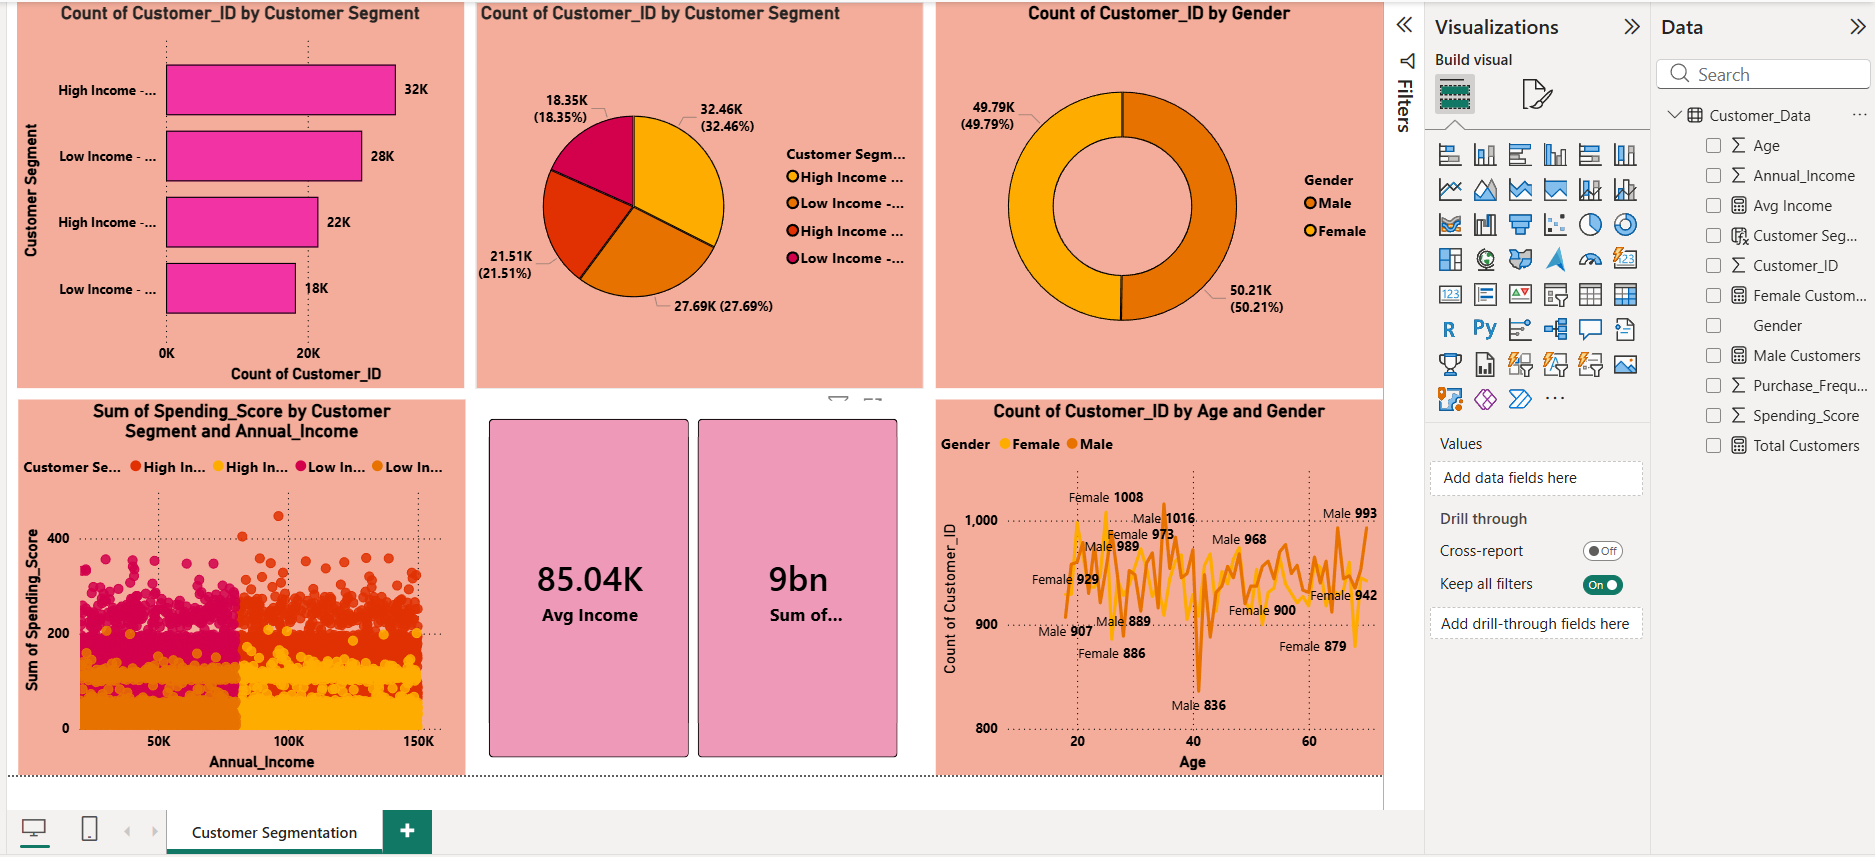

Layout of this report page (visuals, bound fields, positions):
{"tool":"powerbi","page":{"name":"Page 1","canvas":[1280,720],"ordinal":0},"visuals":[{"type":"barChart","fields":{"Category":["Customer_Data.Customer Segment"],"Y":["CountNonNull(Customer_Data.Customer_ID)"]},"box":[9.6,0,415.8,359.5],"z":0},{"type":"scatterChart","fields":{"X":["Customer_Data.Annual_Income"],"Y":["Sum(Customer_Data.Spending_Score)"],"Series":["Customer_Data.Customer Segment"]},"box":[10,370,416,350],"z":1000},{"type":"pieChart","fields":{"Y":["CountNonNull(Customer_Data.Customer_ID)"],"Category":["Customer_Data.Customer Segment"]},"box":[436,0,416,360],"z":2000},{"type":"donutChart","fields":{"Category":["Customer_Data.Gender"],"Y":["CountNonNull(Customer_Data.Customer_ID)"]},"box":[864.5,0,415.8,359.5],"z":4000},{"type":"lineChart","fields":{"Category":["Customer_Data.Age"],"Y":["CountNonNull(Customer_Data.Customer_ID)"],"Series":["Customer_Data.Gender"]},"box":[864,370,416,350],"z":5000},{"type":"cardVisual","fields":{"Data":["Customer_Data.Avg Income","Sum(Customer_Data.Annual_Income)"]},"box":[430.9,370.5,415.8,349.9],"z":5001}]}

Visuals, with their boxes on the page's 1280x720 design canvas (x1, y1, x2, y2). These are canvas units, not pixel positions in the 1875x857 screenshot, which may show the page scaled, cropped or inside an application window:
barChart - Customer_Data.Customer Segment x CountNonNull(Customer_Data.Customer_ID): [left=10, top=0, right=425, bottom=360]
scatterChart - Customer_Data.Annual_Income x Sum(Customer_Data.Spending_Score): [left=10, top=370, right=426, bottom=720]
pieChart - CountNonNull(Customer_Data.Customer_ID) x Customer_Data.Customer Segment: [left=436, top=0, right=852, bottom=360]
donutChart - Customer_Data.Gender x CountNonNull(Customer_Data.Customer_ID): [left=864, top=0, right=1280, bottom=360]
lineChart - Customer_Data.Age x CountNonNull(Customer_Data.Customer_ID): [left=864, top=370, right=1280, bottom=720]
cardVisual - Customer_Data.Avg Income x Sum(Customer_Data.Annual_Income): [left=431, top=370, right=847, bottom=720]
